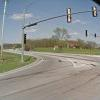Traffic light: (61, 4, 100, 22)
